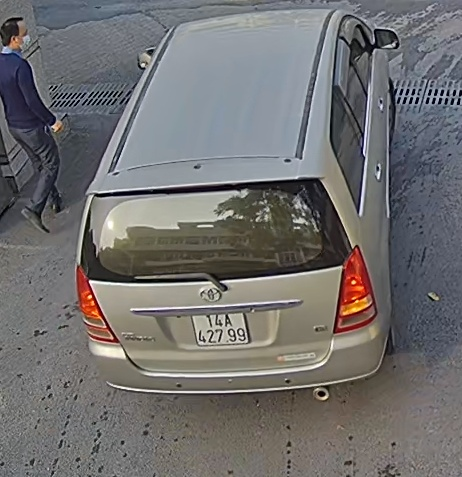vehicle plate: (189, 307, 256, 348)
